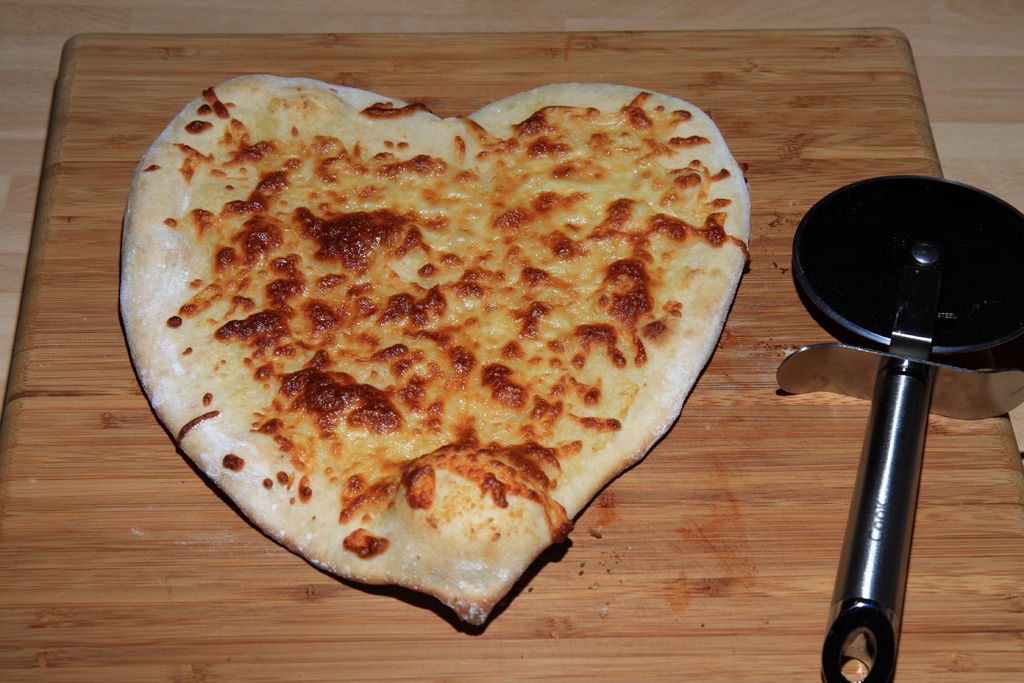Pizza: (120, 71, 749, 629)
